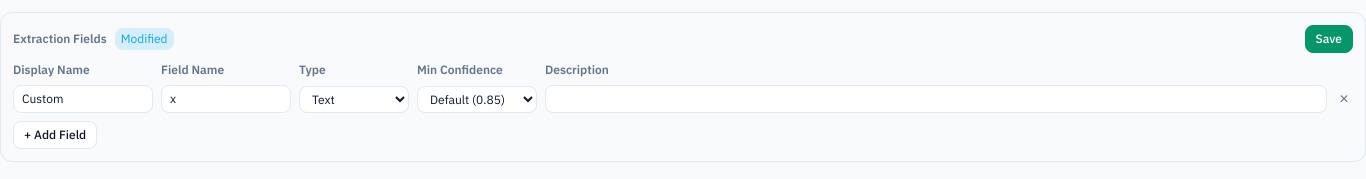
Test case: SchemaEditor › hides Reset to Preset for saved schemas but keeps Save
Expected: the field showing "Custom" is shown, 13,85 -> 153,113
Click the button "Save": (1329,39) 1305,25 -> 1353,53
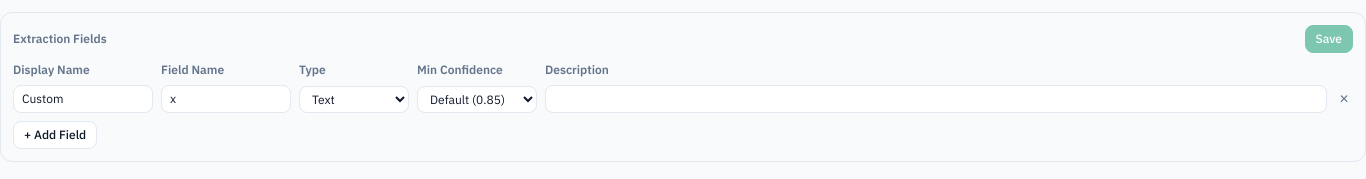
Result: the text "Modified" is gone
